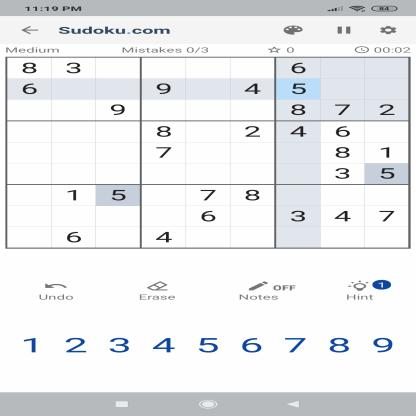sudoku: (2, 54, 414, 252)
